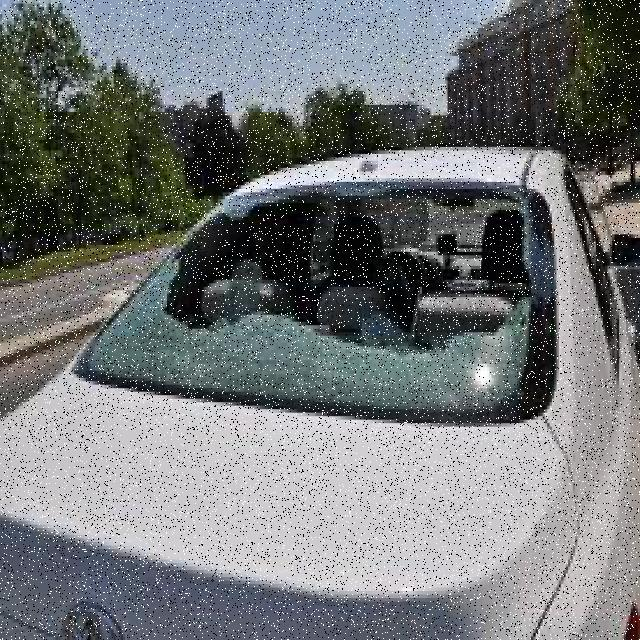Rear-windscreen-Damage: (65, 161, 598, 469)
